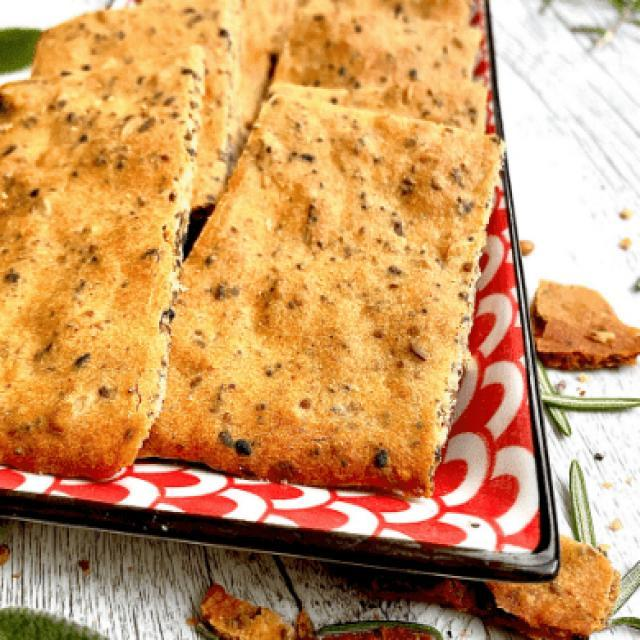Cracker: (128, 91, 508, 501), (5, 55, 209, 497)
